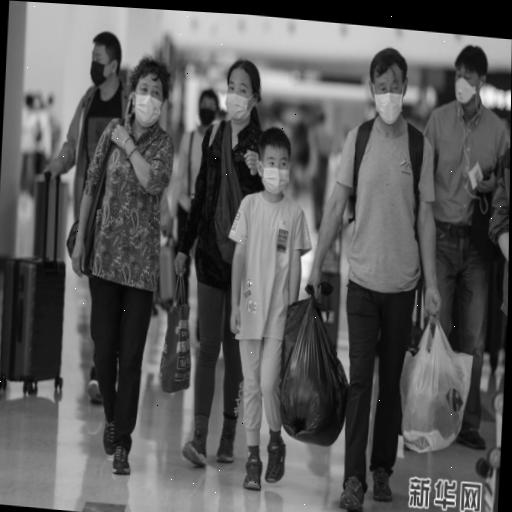mask: (123, 47, 174, 135), (364, 41, 412, 127), (252, 122, 296, 201), (219, 52, 262, 127), (446, 40, 489, 111), (83, 25, 123, 92), (192, 81, 220, 131)
